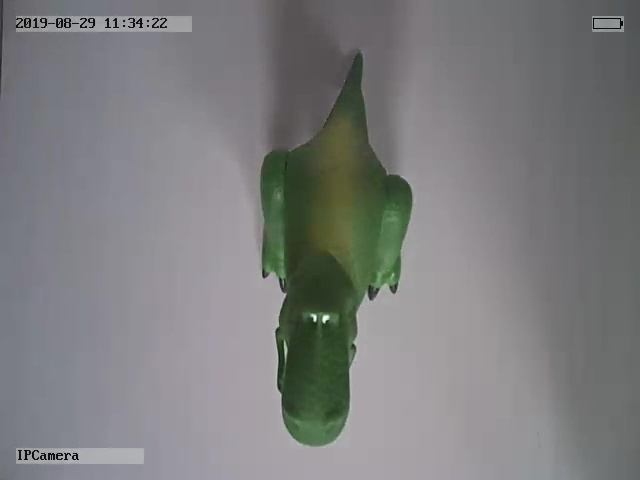rex: (255, 49, 413, 450)
